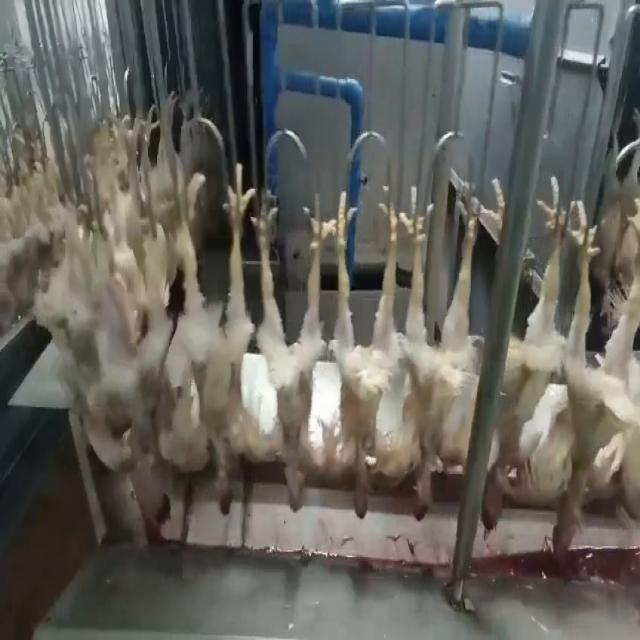chicken: (477, 171, 572, 538), (550, 195, 639, 563), (391, 187, 488, 521), (171, 157, 248, 517), (323, 187, 405, 516), (250, 194, 327, 516), (102, 163, 170, 524)
